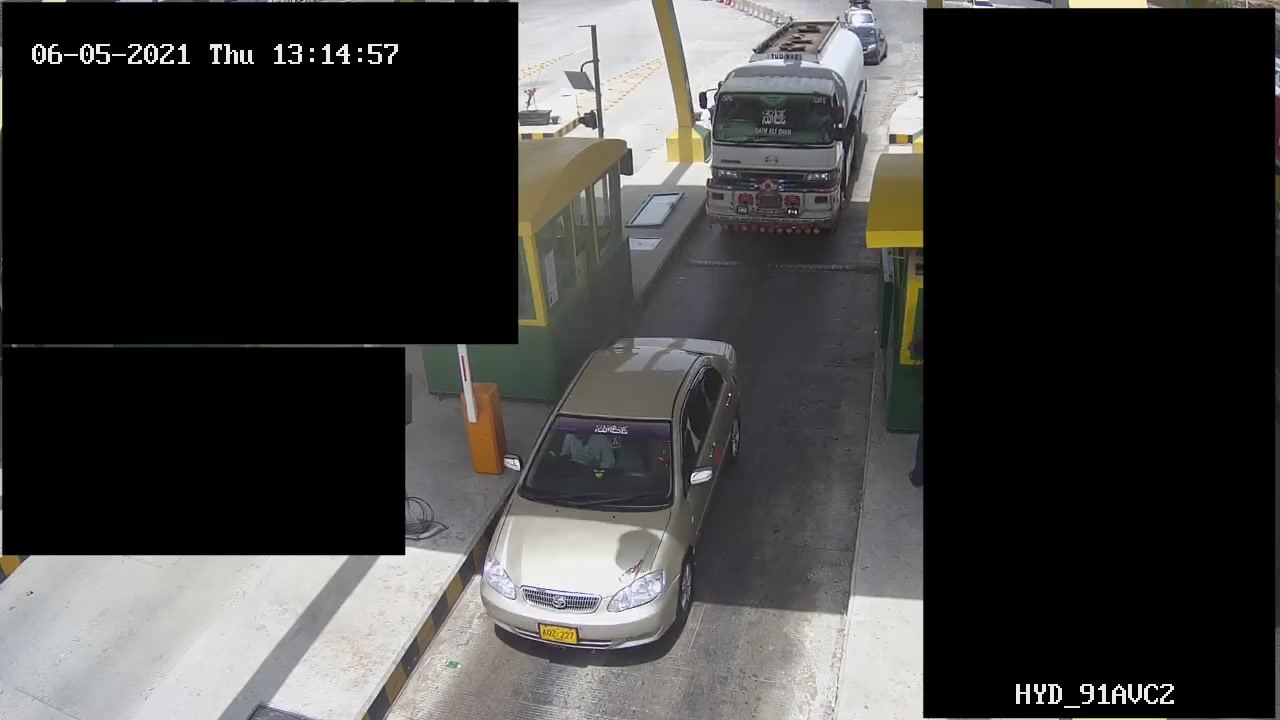F6: (694, 18, 872, 241)
